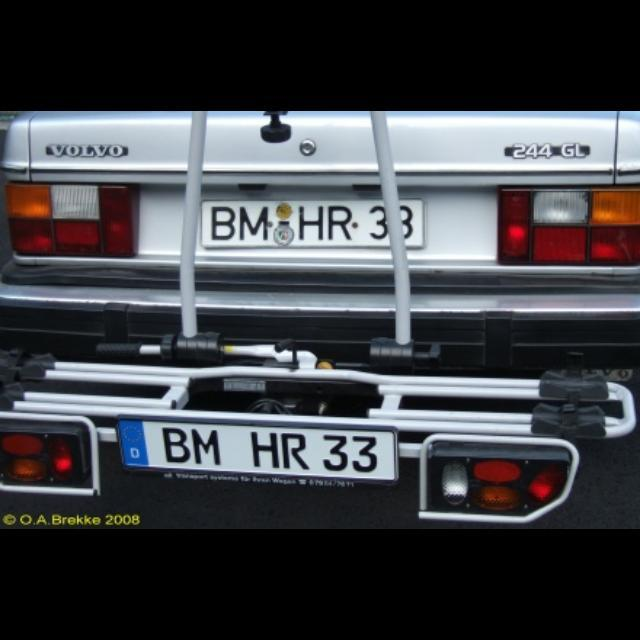license-plates: (118, 420, 398, 482), (202, 200, 388, 248), (401, 200, 425, 248)
